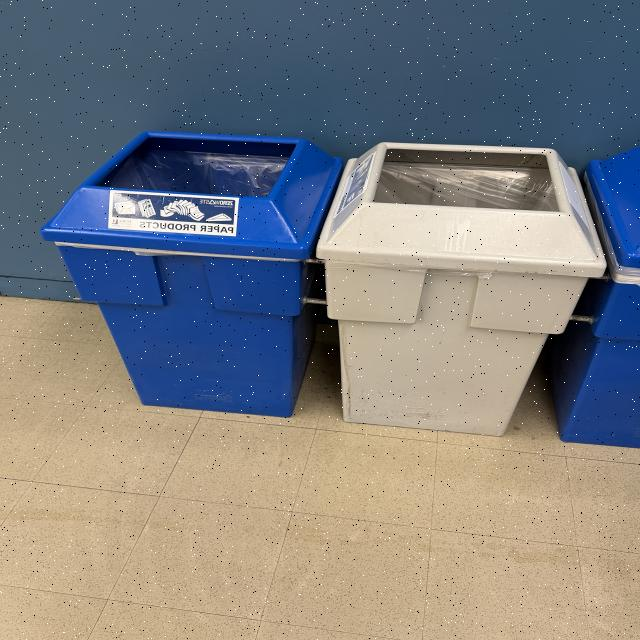Dustbin: (38, 127, 640, 448)
